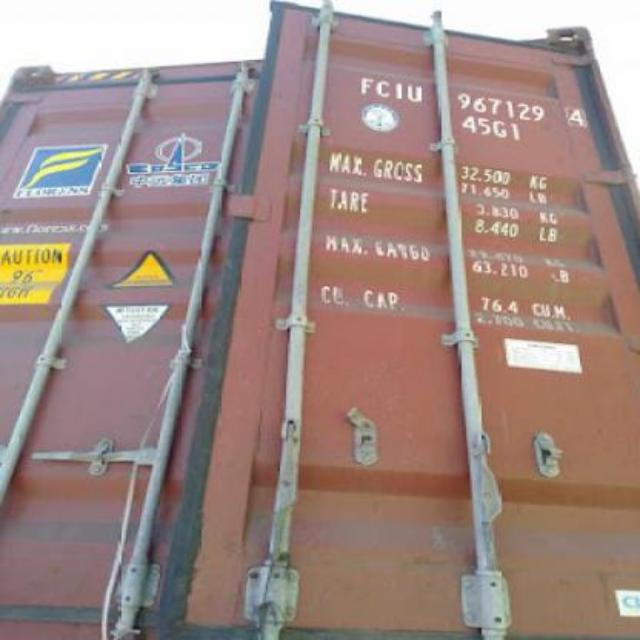1: (504, 98, 518, 122)
2: (516, 100, 532, 122)
4: (570, 108, 586, 126)
6: (472, 93, 488, 113)
7: (486, 94, 504, 116)
9: (458, 92, 472, 112), (532, 105, 546, 125)
C: (376, 81, 392, 99)
F: (358, 74, 374, 96)
I: (396, 81, 406, 102)
U: (408, 82, 424, 106)
